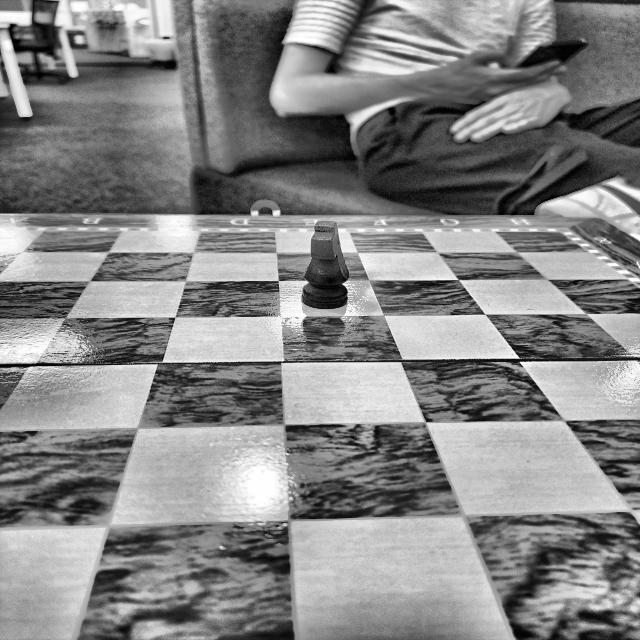black-knight: (301, 221, 349, 309)
